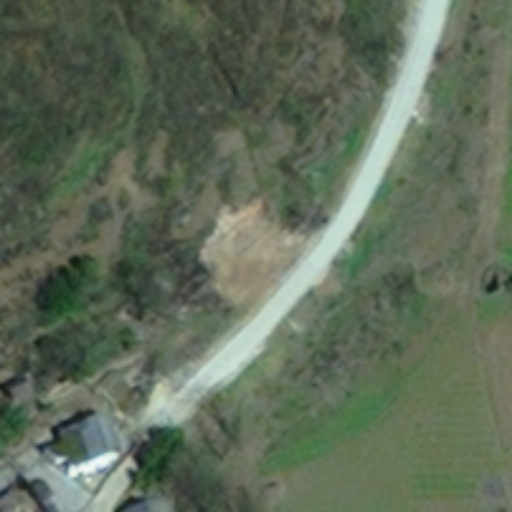landslide: (202, 199, 306, 314)
